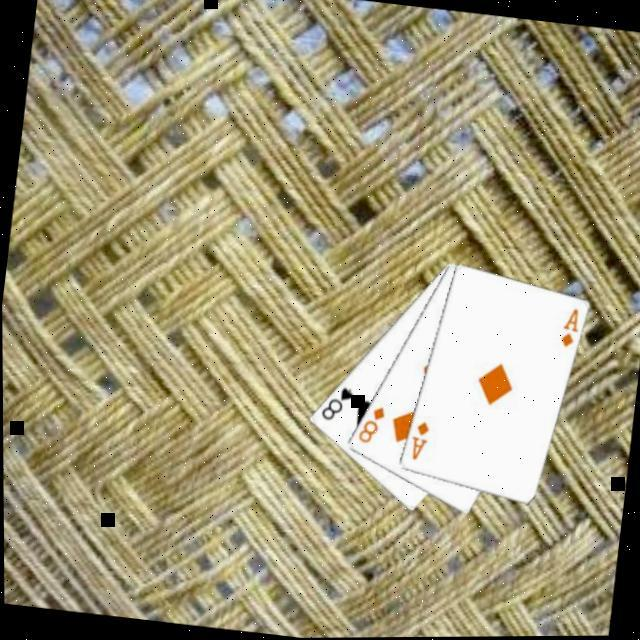8D: (354, 400, 390, 448)
8S: (317, 380, 358, 424)
AD: (408, 417, 432, 464), (558, 304, 582, 351)
